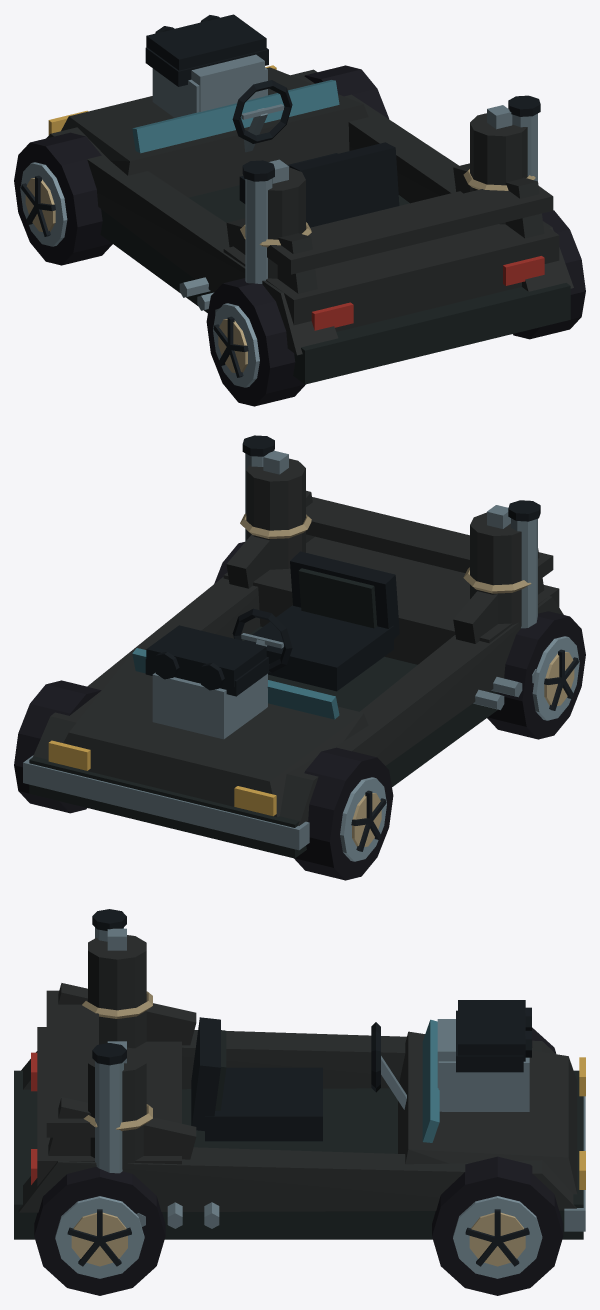
The model's file is kart.glb.
3 views of the same model, one above another, from view 1: azimuth 30°, elevation 25°; view 2: azimuth 150°, elevation 25°; view 3: azimuth 270°, elevation 25° (orthographic). The views are drawn at different scales.
Parts seen in each view (by area): view 1: identity-interceptor-interceptor-fastback-and-supercharger, wheel-front-left, wheel-rear-left, identity-interceptor-driver-cockpit, identity-interceptor-motif-tanks, identity-interceptor-motif-blower, identity-interceptor-motif-exhaust, wheel-rear-right, wheel-front-right; view 2: identity-interceptor-interceptor-fastback-and-supercharger, identity-interceptor-driver-cockpit, identity-interceptor-motif-tanks, wheel-front-left, wheel-rear-left, identity-interceptor-motif-blower, wheel-front-right, identity-interceptor-motif-exhaust; view 3: identity-interceptor-interceptor-fastback-and-supercharger, wheel-front-right, wheel-rear-right, identity-interceptor-driver-cockpit, identity-interceptor-motif-tanks, identity-interceptor-motif-blower, identity-interceptor-motif-exhaust.
Part boxes in pixels (bbox=[...]): identity-interceptor-interceptor-fastback-and-supercharger: bbox=[46, 47, 573, 384]; wheel-front-left: bbox=[14, 132, 112, 265]; wheel-rear-left: bbox=[206, 278, 305, 406]; identity-interceptor-driver-cockpit: bbox=[232, 80, 399, 227]; identity-interceptor-motif-tanks: bbox=[240, 105, 535, 278]; identity-interceptor-motif-blower: bbox=[146, 14, 266, 111]; identity-interceptor-motif-exhaust: bbox=[242, 95, 540, 283]; wheel-rear-right: bbox=[513, 210, 585, 339]; wheel-front-right: bbox=[304, 65, 388, 118]; identity-interceptor-interceptor-fastback-and-supercharger: bbox=[23, 490, 563, 858]; identity-interceptor-driver-cockpit: bbox=[232, 551, 399, 691]; identity-interceptor-motif-tanks: bbox=[240, 450, 531, 626]; wheel-front-left: bbox=[294, 747, 393, 880]; wheel-rear-left: bbox=[487, 611, 585, 739]; identity-interceptor-motif-blower: bbox=[146, 625, 266, 690]; wheel-front-right: bbox=[14, 680, 101, 813]; identity-interceptor-motif-exhaust: bbox=[242, 435, 540, 628]; identity-interceptor-interceptor-fastback-and-supercharger: bbox=[14, 983, 585, 1239]; wheel-front-right: bbox=[432, 1156, 563, 1295]; wheel-rear-right: bbox=[34, 1166, 165, 1295]; identity-interceptor-driver-cockpit: bbox=[191, 1017, 406, 1141]; identity-interceptor-motif-tanks: bbox=[82, 928, 152, 1169]; identity-interceptor-motif-blower: bbox=[437, 1000, 531, 1088]; identity-interceptor-motif-exhaust: bbox=[92, 909, 126, 1173].
Size of the model in its own units: 2.07 by 1.33 by 2.96.
